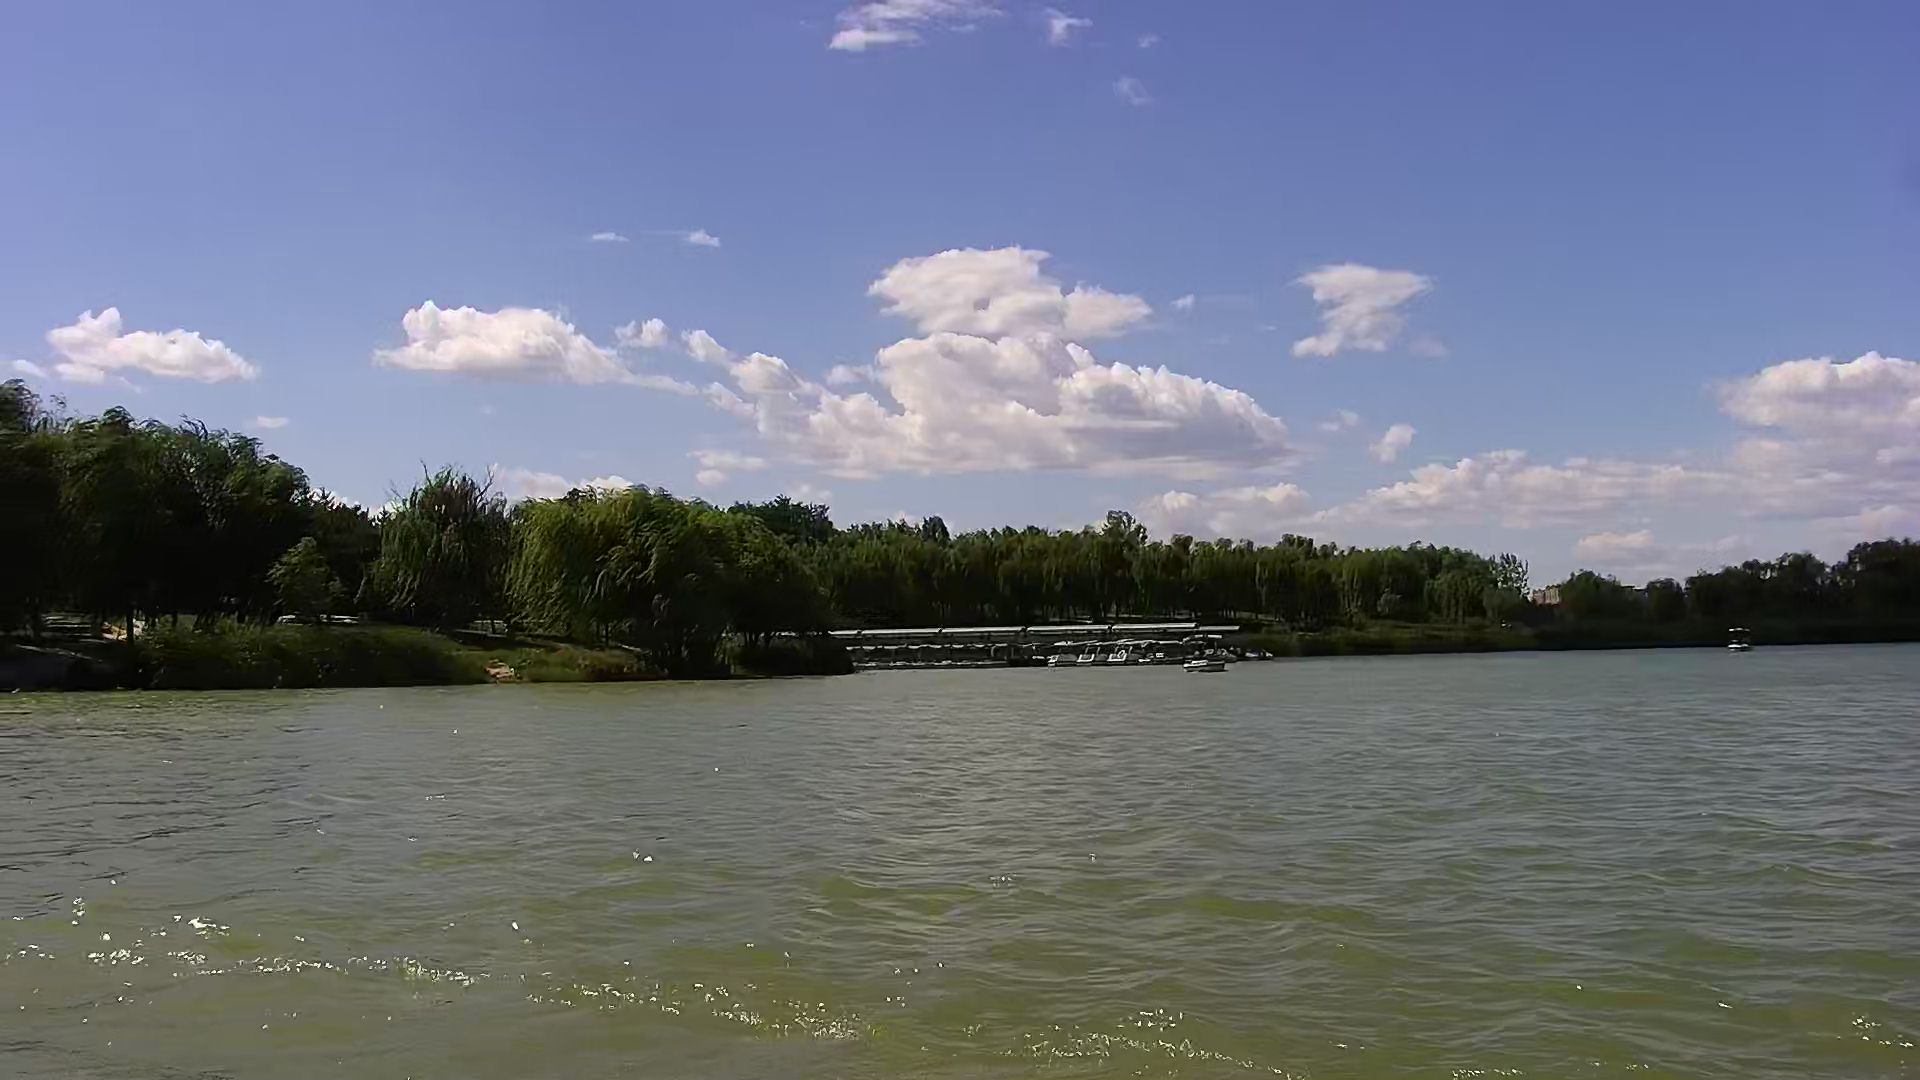boat: (1135, 644, 1170, 671), (1046, 644, 1076, 669), (1105, 644, 1134, 669), (1182, 659, 1226, 675), (1079, 642, 1104, 669), (1727, 626, 1753, 650)
harbor: (855, 626, 1244, 667)
